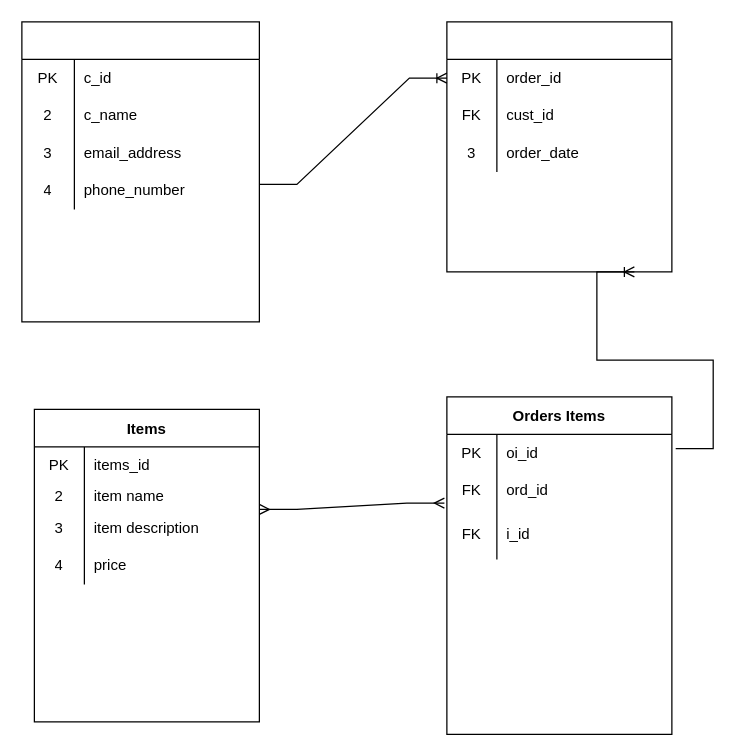
Some shapes in this 746 by 756 pixel diagram are drawn without their labels. Here are the shapes that lost their labels. From the top down, the box of each, then its label:
(446, 21, 672, 272): Orders
(21, 21, 259, 322): Customers
